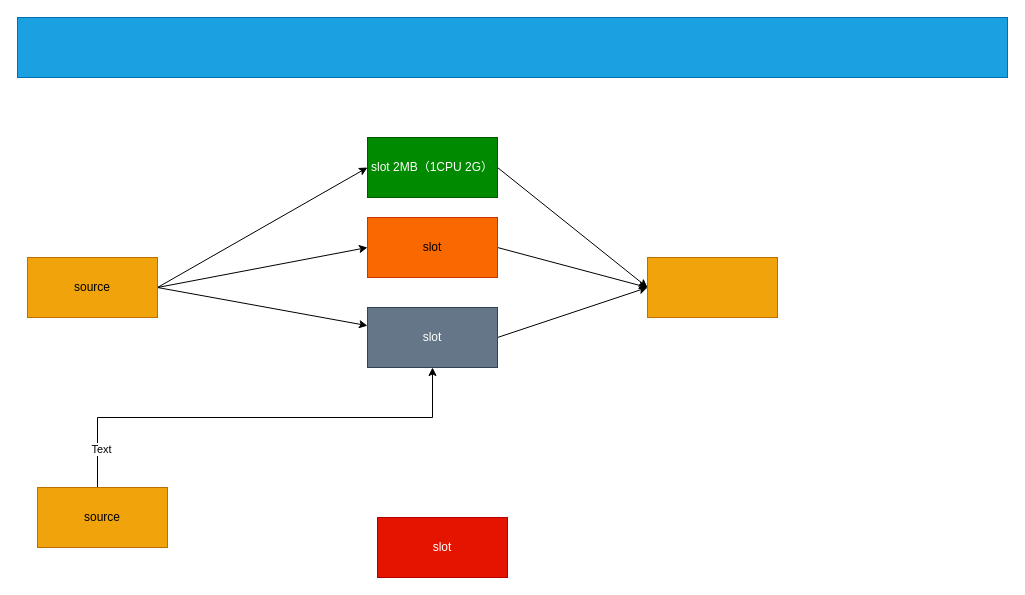
Some shapes in this 1025 by 595 pixel diagram are drawn without their labels. Here are the shapes that lost their labels. From the top down, the box of each, then its label:
(16, 16, 1008, 78): flink-job
(646, 256, 778, 318): sink
